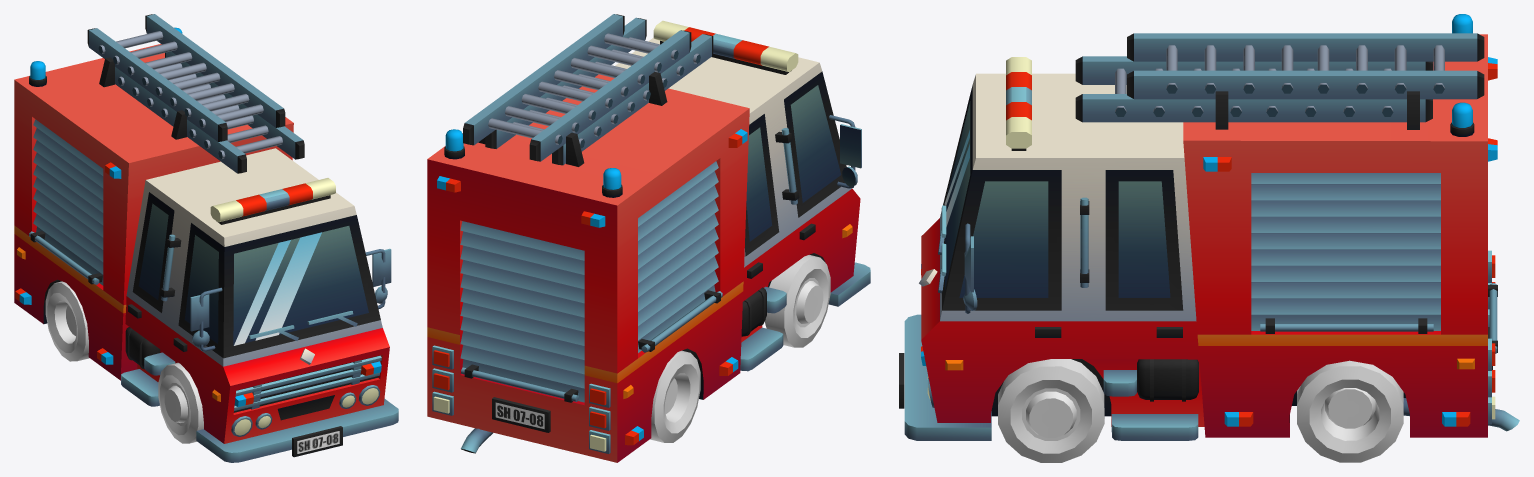
3 renders of one model, left to right at view 1: azimuth 30°, elevation 25°; view 2: azimuth 150°, elevation 25°; view 3: azimuth 270°, elevation 25°, orthographic. The views are drawn at different scales.
Parts seen in each view (by area): view 1: SHTV_Model_Car_FireEngine_SHTV_Material_Cars_Red_0, SHTV_Model_Wheel_FireEngine_FR_SHTV_Material_Cars_Gray_0, SHTV_Model_Wheel_FireEngine_BR_SHTV_Material_Cars_Gray_0; view 2: SHTV_Model_Car_FireEngine_SHTV_Material_Cars_Red_0, SHTV_Model_Wheel_FireEngine_FR_SHTV_Material_Cars_Gray_0, SHTV_Model_Wheel_FireEngine_BR_SHTV_Material_Cars_Gray_0; view 3: SHTV_Model_Car_FireEngine_SHTV_Material_Cars_Red_0, SHTV_Model_Wheel_FireEngine_FR_SHTV_Material_Cars_Gray_0.001, SHTV_Model_Wheel_FireEngine_BR_SHTV_Material_Cars_Gray_0.001.
Part boxes in pixels (x1=…): SHTV_Model_Car_FireEngine_SHTV_Material_Cars_Red_0: x1=14, y1=14, x2=398, y2=462; SHTV_Model_Wheel_FireEngine_FR_SHTV_Material_Cars_Gray_0: x1=158, y1=362, x2=203, y2=443; SHTV_Model_Wheel_FireEngine_BR_SHTV_Material_Cars_Gray_0: x1=45, y1=281, x2=89, y2=361; SHTV_Model_Car_FireEngine_SHTV_Material_Cars_Red_0: x1=427, y1=14, x2=870, y2=462; SHTV_Model_Wheel_FireEngine_FR_SHTV_Material_Cars_Gray_0: x1=765, y1=255, x2=830, y2=347; SHTV_Model_Wheel_FireEngine_BR_SHTV_Material_Cars_Gray_0: x1=650, y1=350, x2=700, y2=442; SHTV_Model_Car_FireEngine_SHTV_Material_Cars_Red_0: x1=899, y1=14, x2=1519, y2=440; SHTV_Model_Wheel_FireEngine_FR_SHTV_Material_Cars_Gray_0.001: x1=998, y1=359, x2=1104, y2=462; SHTV_Model_Wheel_FireEngine_BR_SHTV_Material_Cars_Gray_0.001: x1=1297, y1=360, x2=1403, y2=462.
Bounding box in the file's own units: 2.42 × 3.19 × 4.9.
